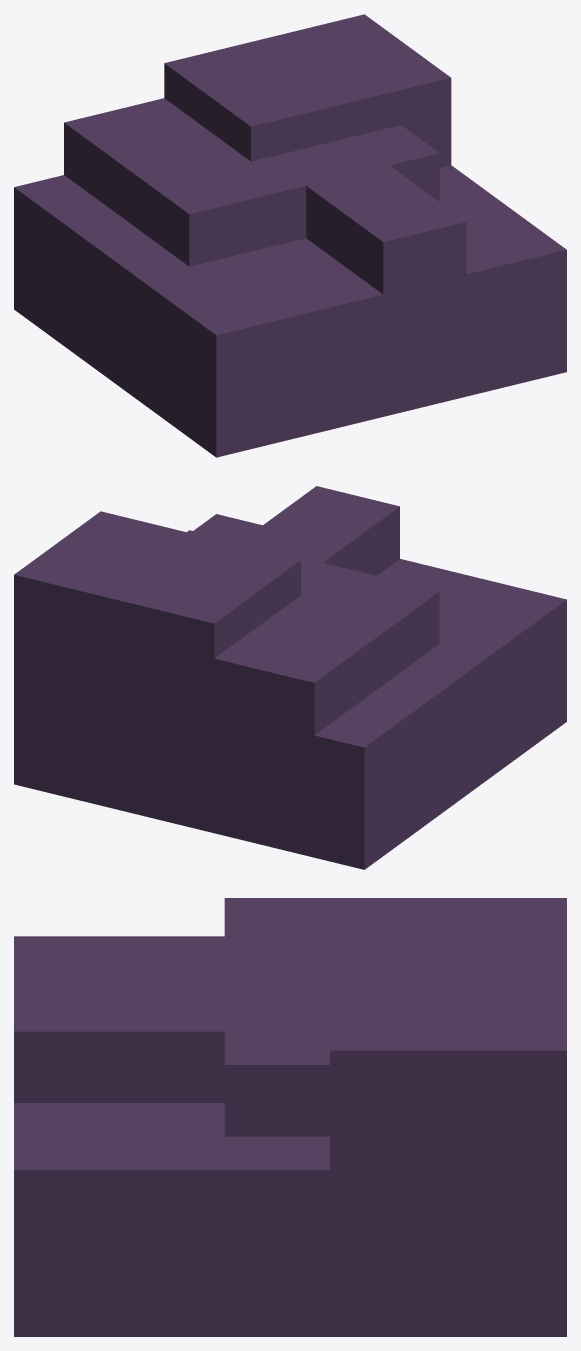
File: Level3Crystal_7.dae
The picture shows the model from 3 angles, top to bottom: view 1: azimuth 30°, elevation 25°; view 2: azimuth 150°, elevation 25°; view 3: azimuth 270°, elevation 25°; orthographic projection. The views are drawn at different scales.
Visible parts, largest first — view 1: Level3Crystal_7; view 2: Level3Crystal_7; view 3: Level3Crystal_7.
Part boxes in pixels (box(x1,y1,x2,y2)): Level3Crystal_7: box(14, 14, 566, 457); Level3Crystal_7: box(14, 486, 566, 869); Level3Crystal_7: box(14, 898, 566, 1336).
Size of the model in its own units: 2.1 by 1.2 by 2.1.
Materials: 1 (1 with a texture image).
